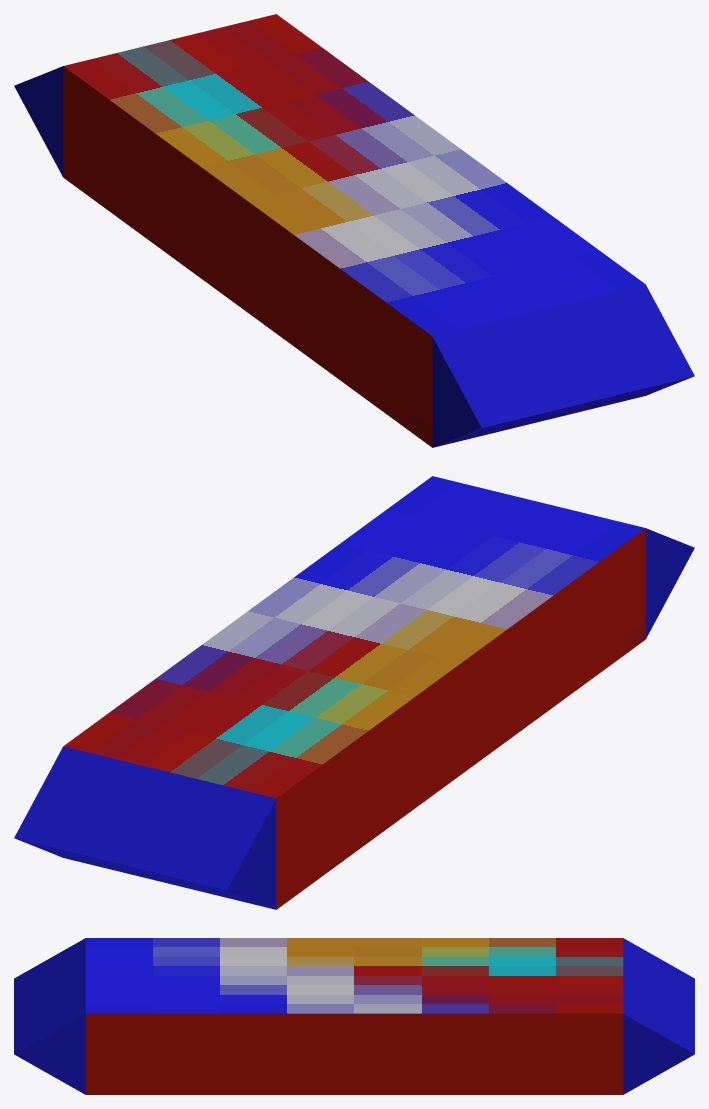
The model's file is Susenka.fbx.
The picture shows the model from 3 angles, top to bottom: view 1: azimuth 30°, elevation 25°; view 2: azimuth 150°, elevation 25°; view 3: azimuth 270°, elevation 25°; orthographic projection. The views are drawn at different scales.
Parts seen in each view (by area): view 1: Susenka; view 2: Susenka; view 3: Susenka.
Part boxes in pixels (<box>): Susenka: <box>14,14,694,447</box>; Susenka: <box>14,476,694,909</box>; Susenka: <box>14,938,694,1094</box>.
Size of the model in its own units: 5.5 by 2.75 by 20.9.
1 material, 1 textured.
